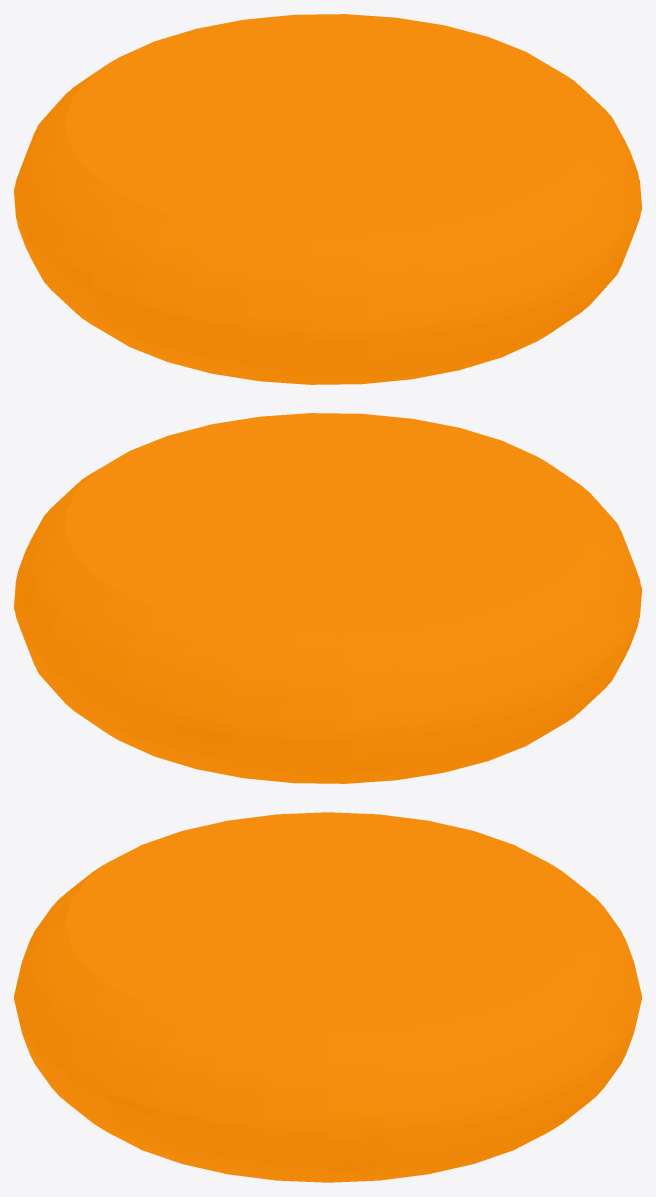
Rendered from highlight.fbx.
The picture shows the model from 3 angles, top to bottom: view 1: azimuth 30°, elevation 25°; view 2: azimuth 150°, elevation 25°; view 3: azimuth 270°, elevation 25°; orthographic projection.
Visible parts, largest first — view 1: High light; view 2: High light; view 3: High light.
Part boxes in pixels (bbox=[...]): High light: bbox=[14, 14, 641, 384]; High light: bbox=[14, 413, 641, 783]; High light: bbox=[14, 812, 641, 1182].
Size of the model in its own units: 257 by 66.99 by 257.
